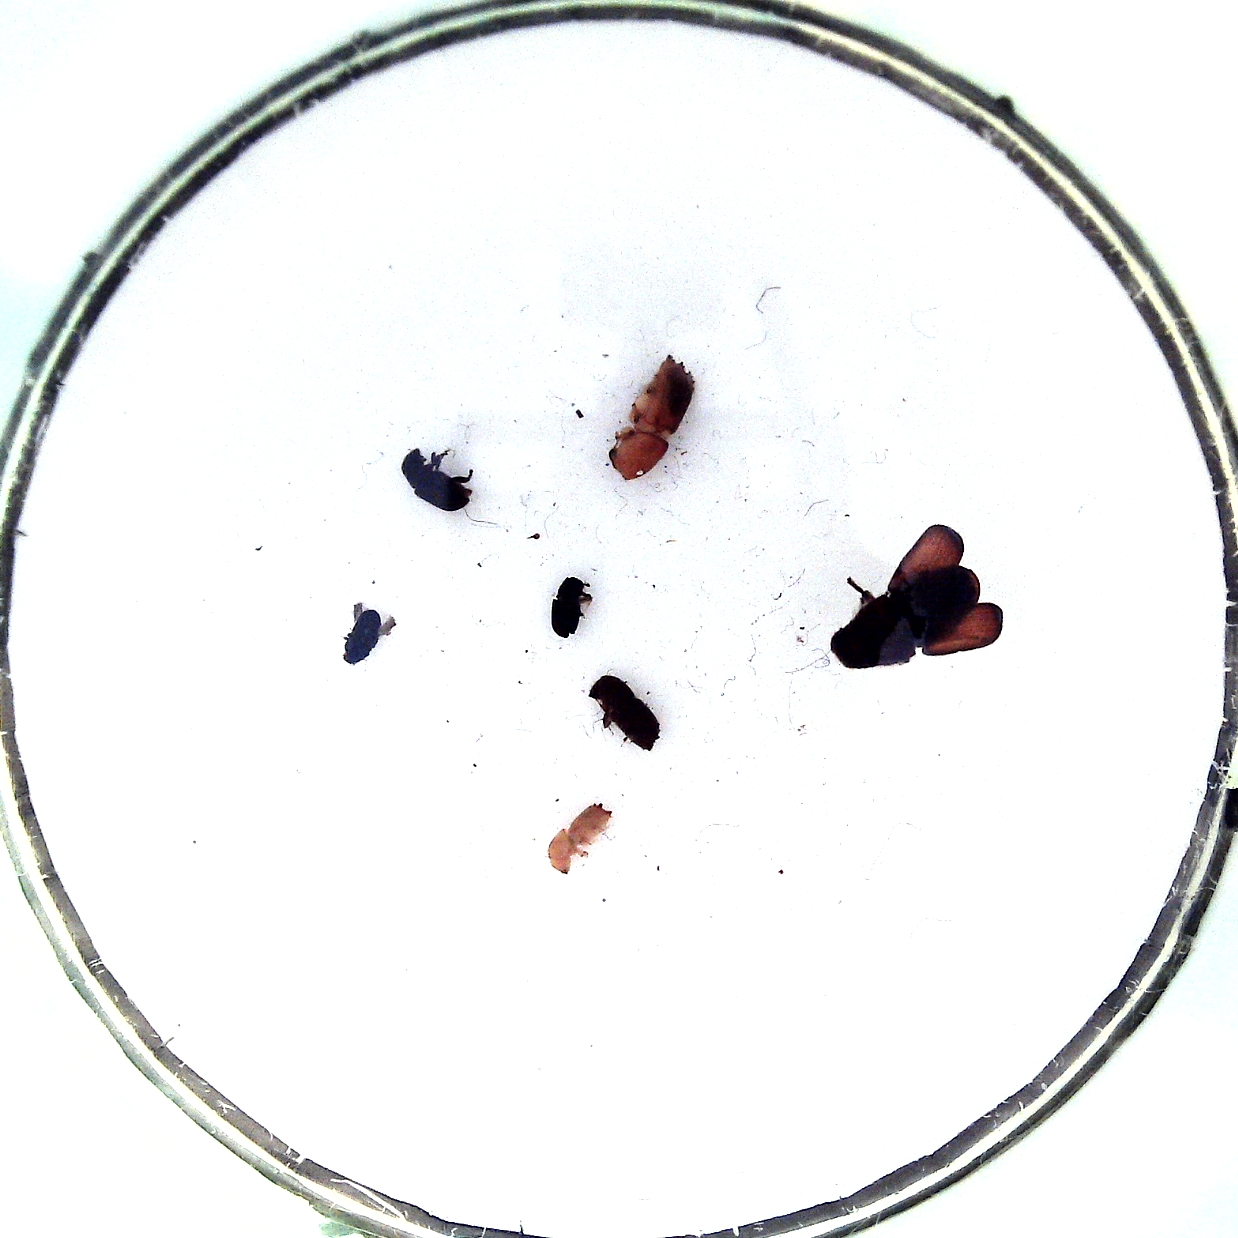Boerner: (608, 353, 695, 482)
Leconte: (830, 563, 981, 669)
acuminatus: (344, 608, 382, 664)
armandi: (401, 447, 473, 511)
coleoptera: (551, 577, 584, 638)
linnaeus: (590, 675, 661, 752), (548, 803, 612, 873)
